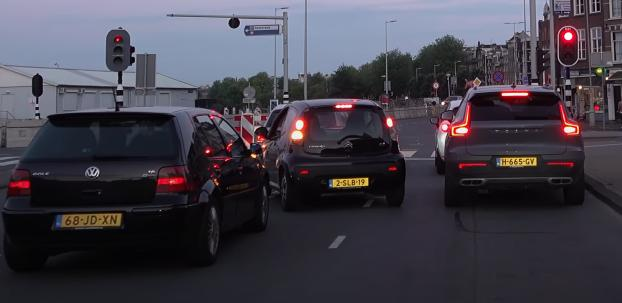license-plate: (54, 212, 124, 229), (495, 156, 539, 168), (328, 177, 370, 188)
